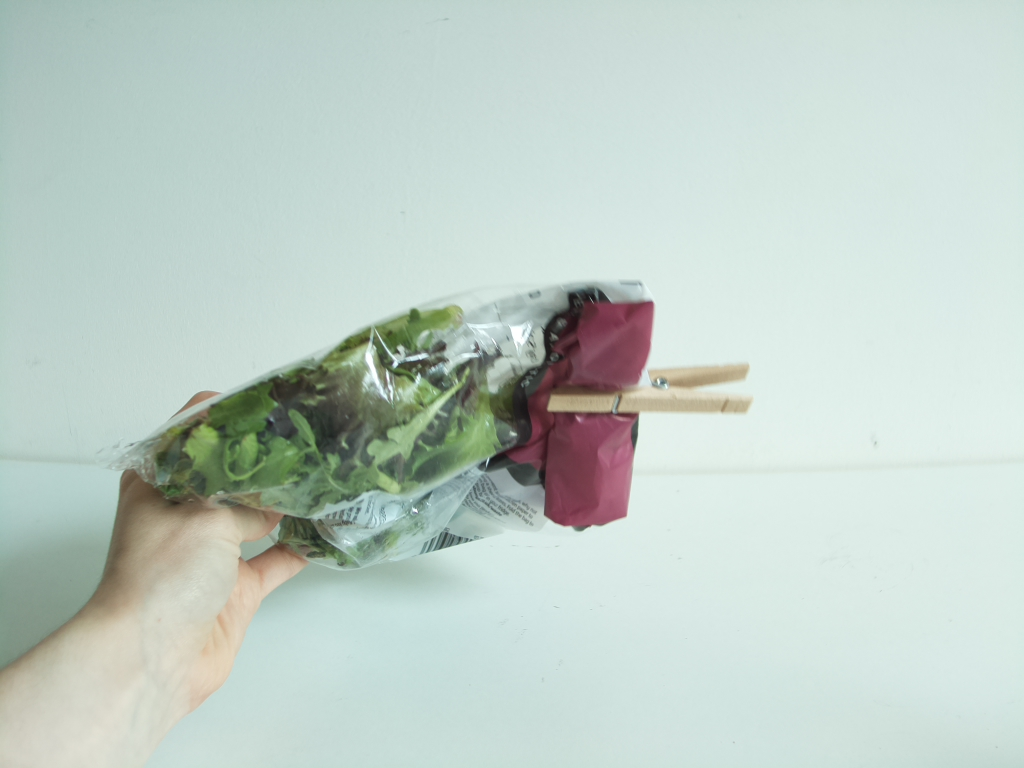salad: (126, 277, 649, 561)
